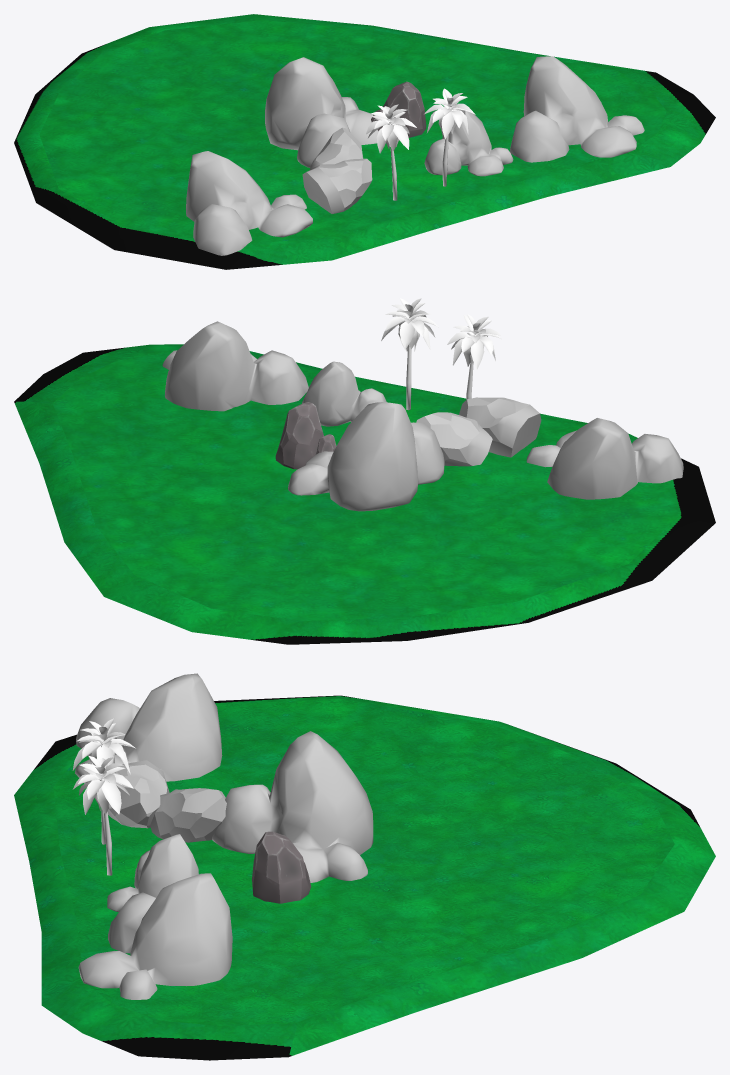
The model's file is Landscape.fbx.
3 renders of one model, top to bottom at view 1: azimuth 30°, elevation 25°; view 2: azimuth 150°, elevation 25°; view 3: azimuth 270°, elevation 25°, orthographic. The views are drawn at different scales.
Parts seen in each view (by area): view 1: MeshBaker__0__mesh_mesh; view 2: MeshBaker__0__mesh_mesh; view 3: MeshBaker__0__mesh_mesh.
Part boxes in pixels (bbox=[...]): MeshBaker__0__mesh_mesh: bbox=[14, 14, 715, 269]; MeshBaker__0__mesh_mesh: bbox=[14, 298, 715, 644]; MeshBaker__0__mesh_mesh: bbox=[14, 673, 715, 1060].
Size of the model in its own units: 91.6 by 17.94 by 74.76.
